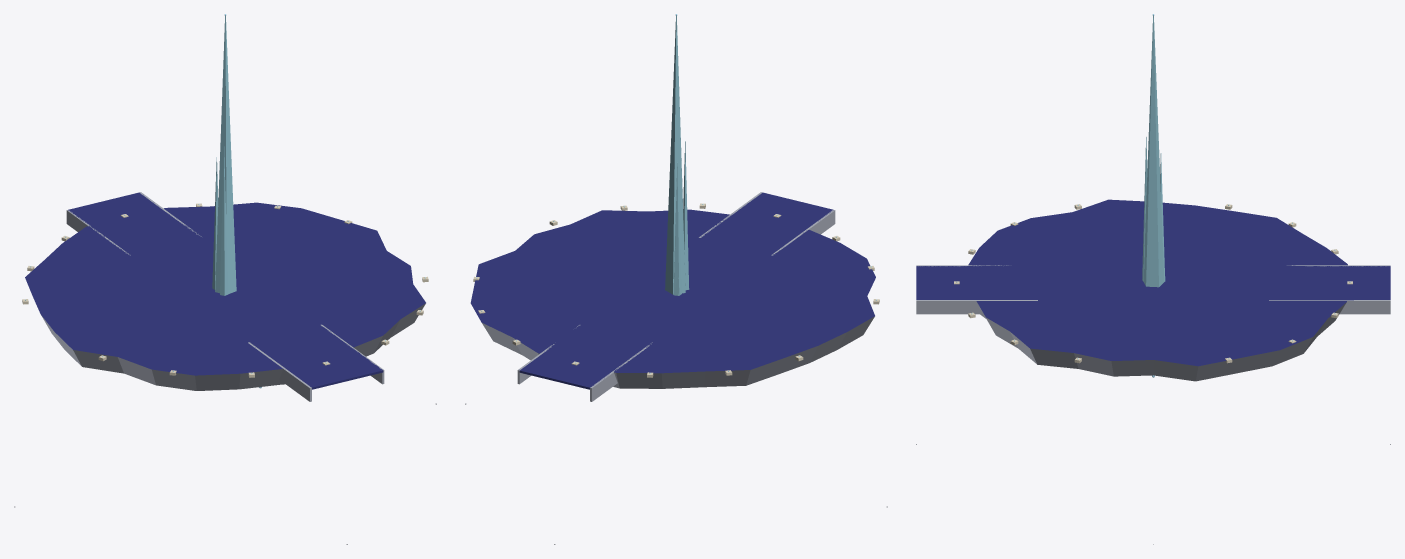
File: chunk_es_starfield_terrace.fbx
The picture shows the model from 3 angles, left to right: view 1: azimuth 30°, elevation 25°; view 2: azimuth 150°, elevation 25°; view 3: azimuth 270°, elevation 25°; orthographic projection. The views are drawn at different scales.
Visible parts, largest first — view 1: ES_STARFIELD_TERRACE; view 2: ES_STARFIELD_TERRACE; view 3: ES_STARFIELD_TERRACE.
Part boxes in pixels (x1,y1,x2,y2): ES_STARFIELD_TERRACE: [14, 14, 436, 544]; ES_STARFIELD_TERRACE: [465, 14, 887, 544]; ES_STARFIELD_TERRACE: [916, 14, 1390, 544].
Bounding box in the file's own units: 256 × 256 × 256.
